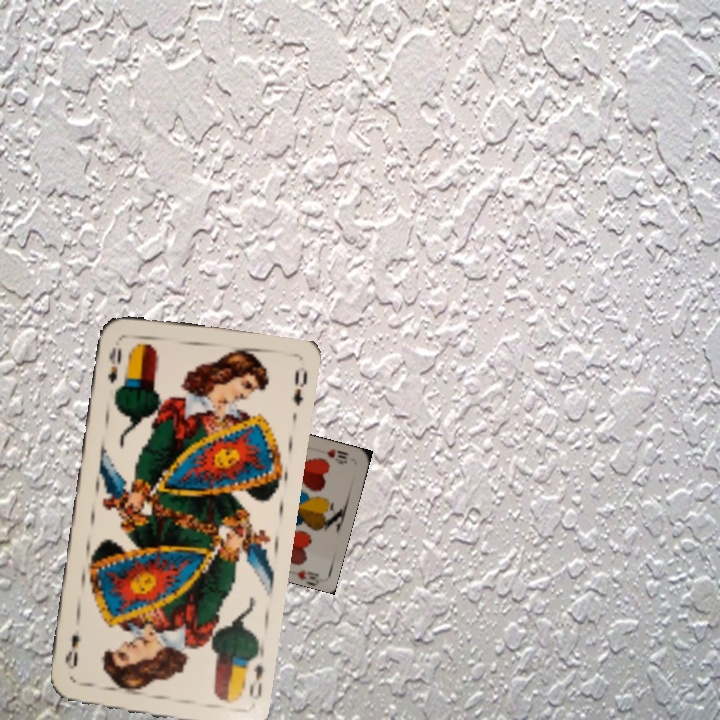EO: (238, 649, 266, 702), (104, 343, 125, 386)
H10: (322, 445, 350, 467)
